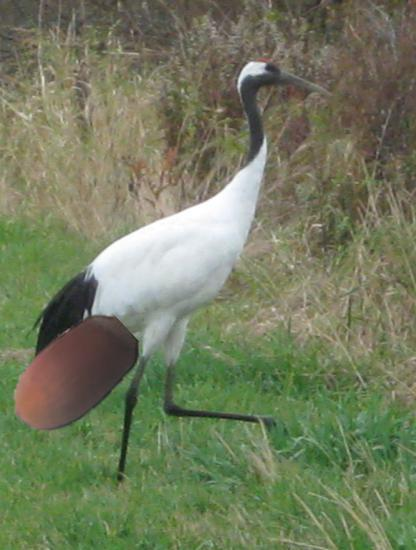Hazelnut: (0, 303, 145, 448)
